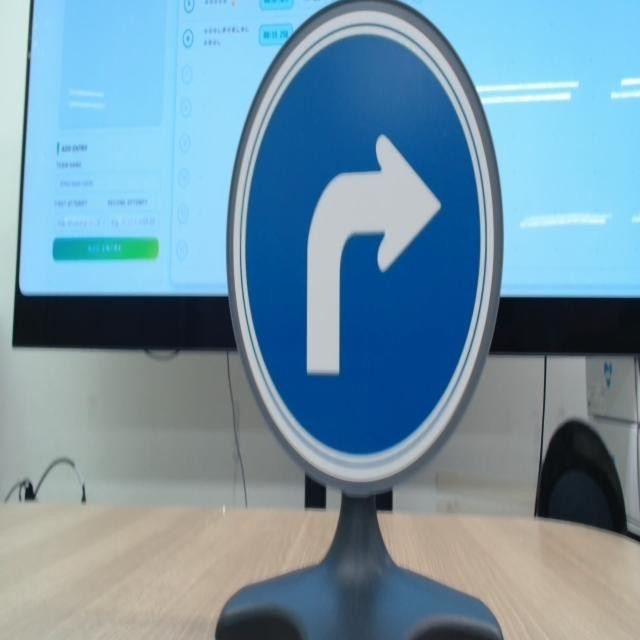right_dierection: (218, 1, 508, 506)
